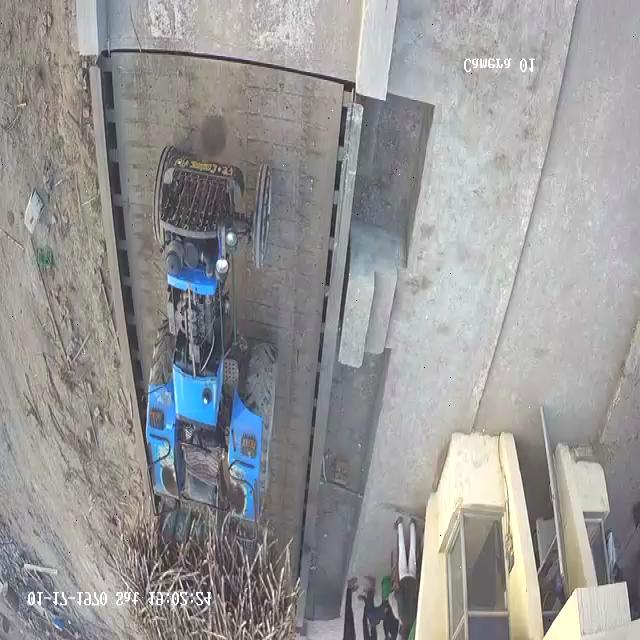Tratores - v5 YOLO V8L 2024-11-13: (146, 144, 275, 514)
